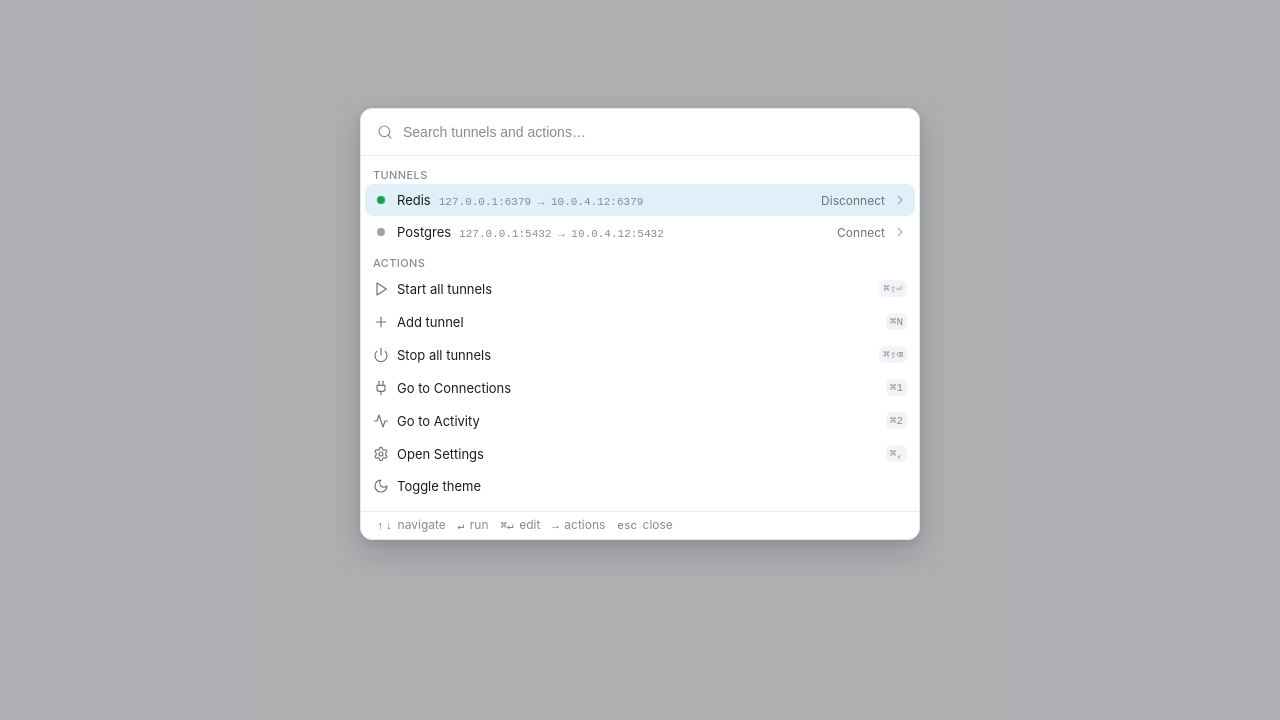
Test: CommandPalette › shows a no-results state for an unmatched query
Type "zzzznomatch" into the dropdown.
click(652, 132); type("zzzznomatch")  # box [401,121,903,143]
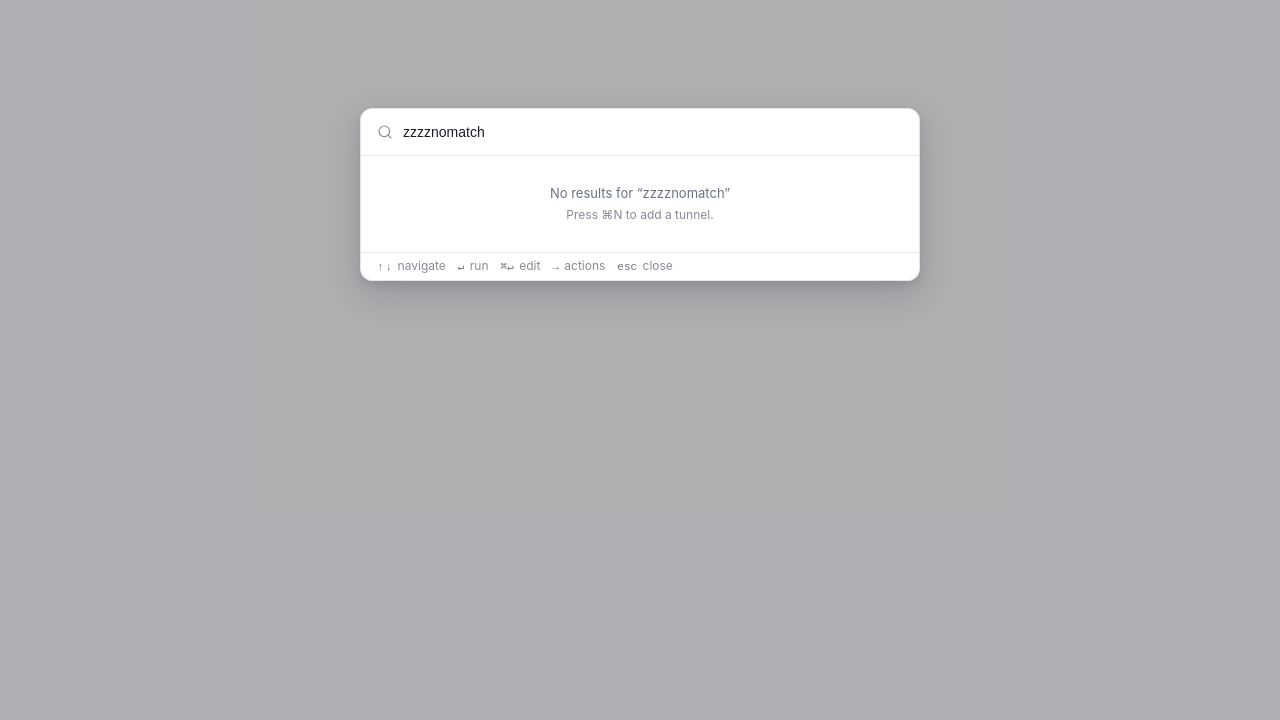
Expected: the text "No results for “zzzznomatch”" is shown, [550,185,730,201]
